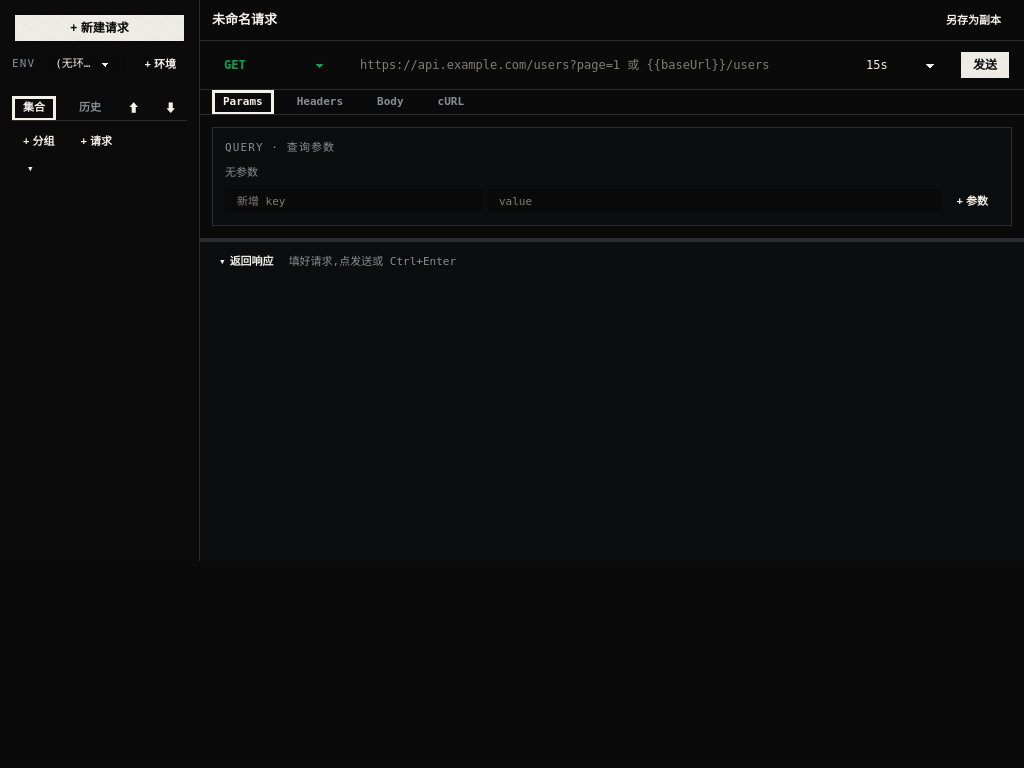
Test: 左栏页签 › 切到「历史」页签:历史条目出现,集合树离开 DOM
Step 1. Click the tab with test id "sidebar-tab-history" → click(90, 108), box [68,96,112,120]
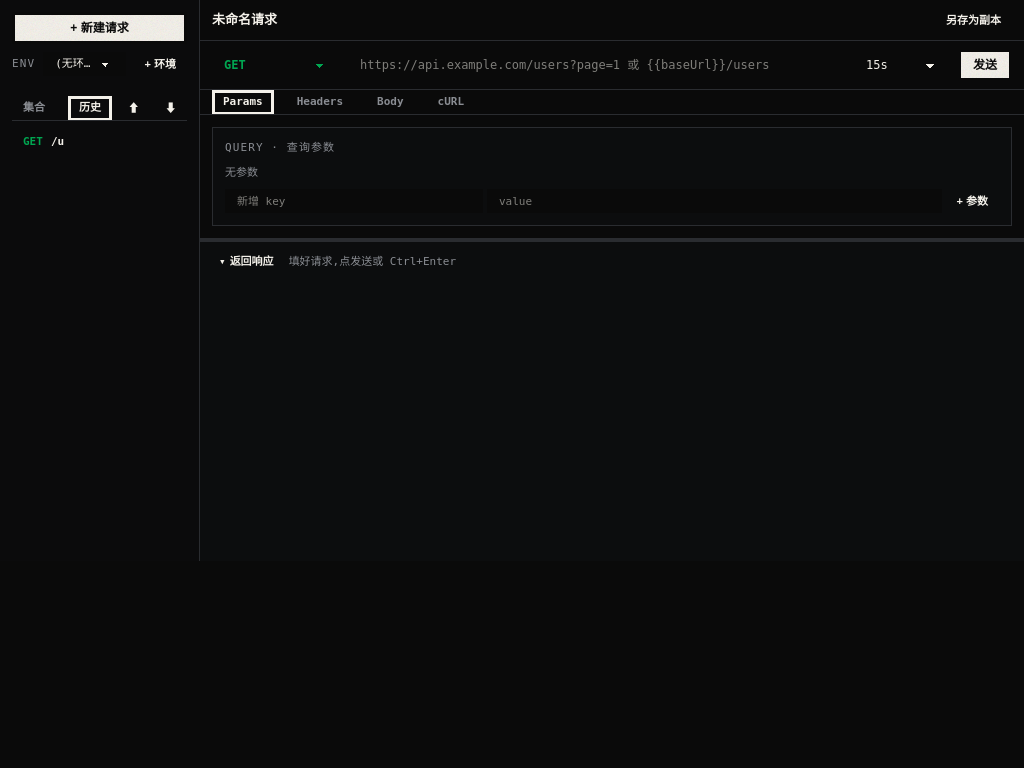
Expected: the text "用户中心" is not shown
Now the text "/u" is shown, box [51,134,64,148]
